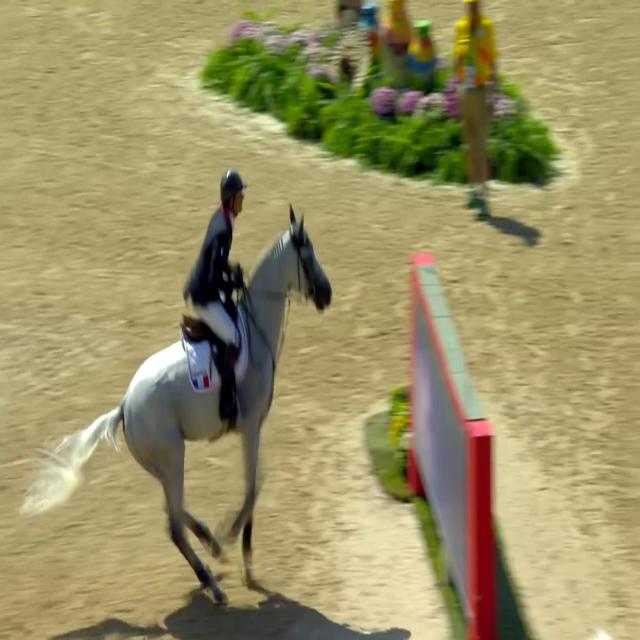Horse Rider: (173, 103, 261, 481)
Horse Running: (23, 205, 340, 609)
